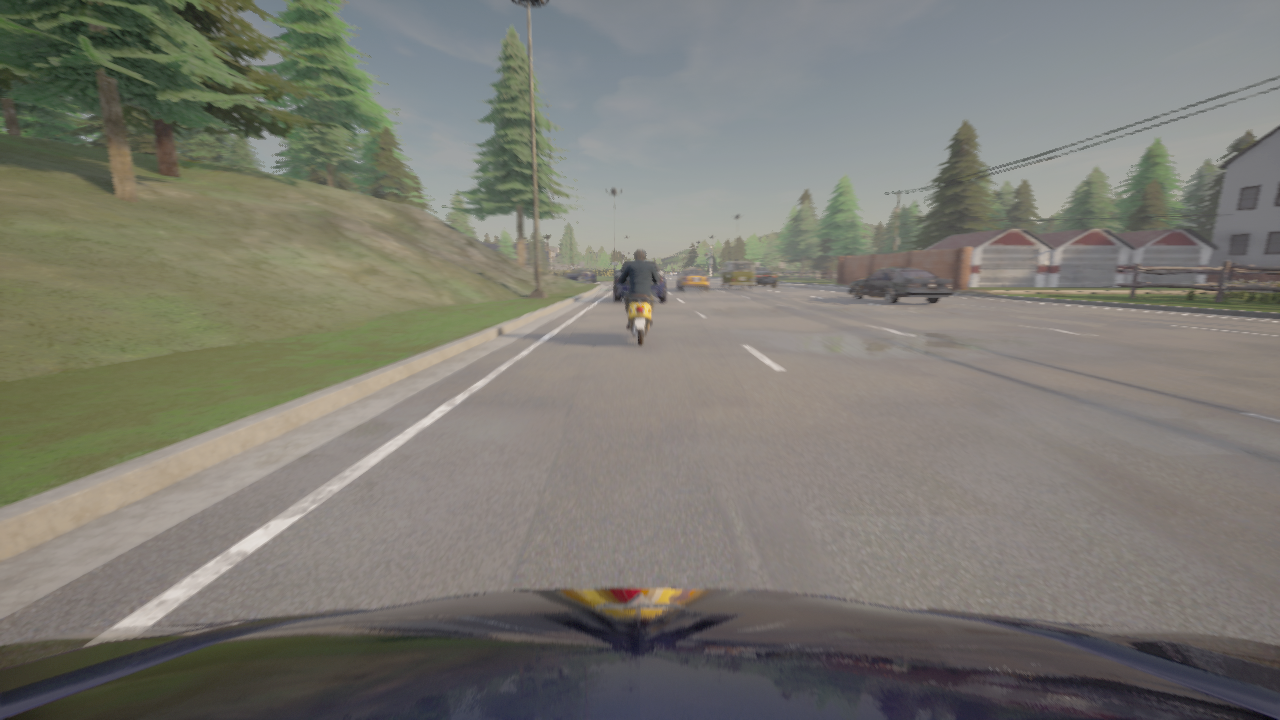cyclist: (0, 588, 1279, 719), (849, 268, 954, 303), (616, 271, 662, 344), (614, 261, 665, 302), (720, 262, 753, 289), (677, 267, 708, 290), (752, 269, 776, 286), (565, 269, 595, 282)
